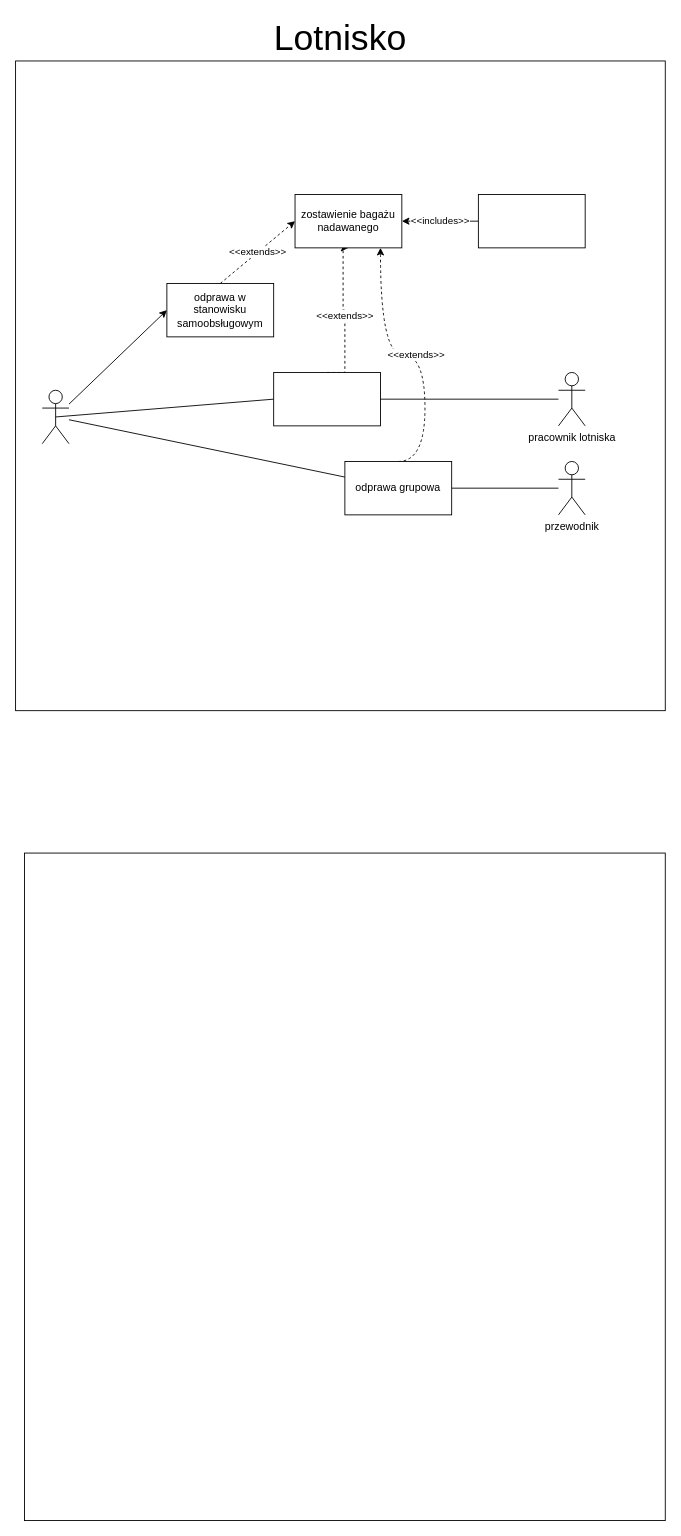
Image size: 681x1536. Some labels were removed from this diagram. The centre of each missing label's shape, as x and y in pixels:
"odprawa u pracownika" belongs at (326,399).
"odprawienie bagażu" belongs at (531,221).
"pasażer" belongs at (55,416).
